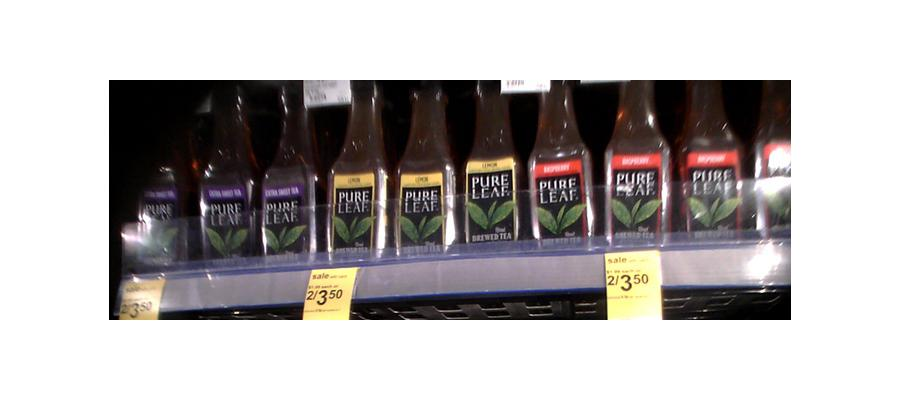bottle: (393, 77, 455, 258), (325, 78, 388, 256), (604, 78, 670, 246), (530, 77, 594, 249), (459, 78, 524, 247), (677, 79, 742, 239), (202, 86, 259, 262), (261, 86, 313, 259), (128, 104, 180, 267), (752, 85, 790, 250)
